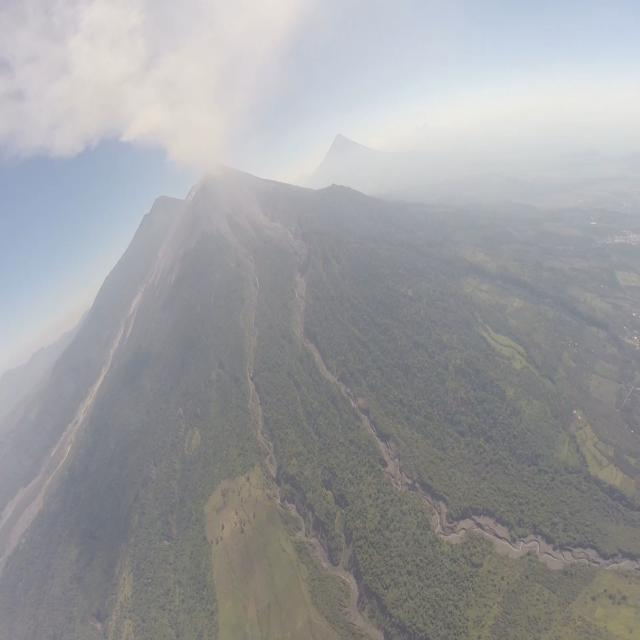Plume: (2, 0, 278, 174)
Summit: (195, 154, 246, 192)
